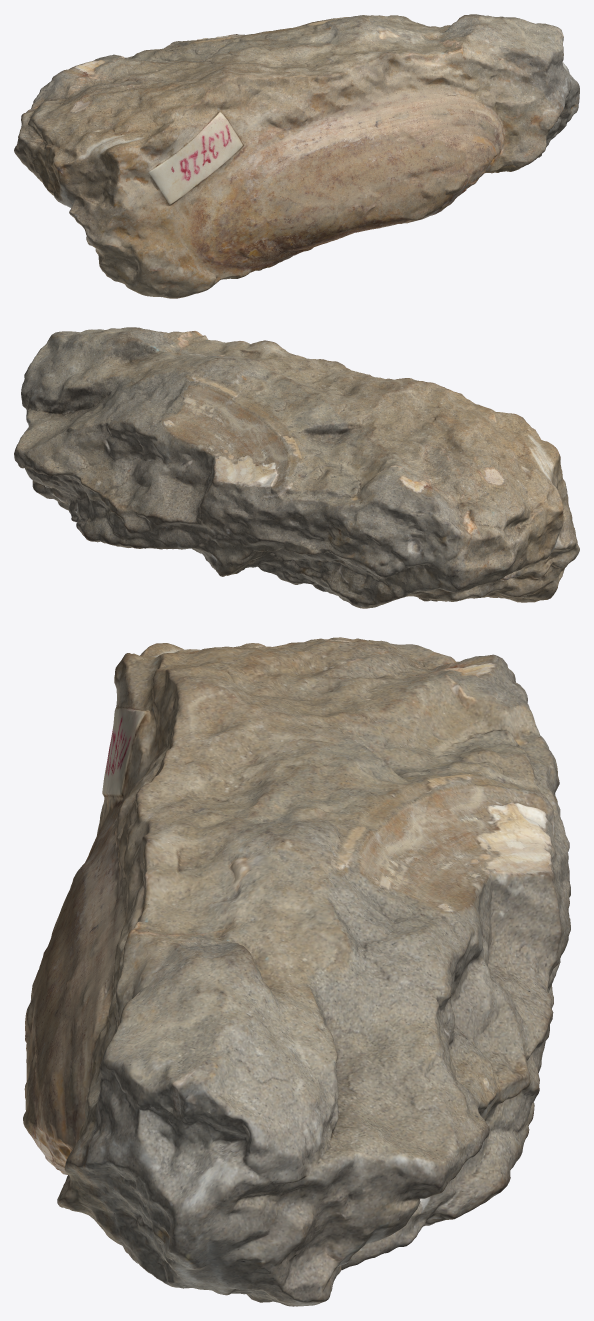
File: EWS0014136.glb
3 renders of one model, top to bottom at view 1: azimuth 30°, elevation 25°; view 2: azimuth 150°, elevation 25°; view 3: azimuth 270°, elevation 25°, orthographic. The views are drawn at different scales.
Visible parts, largest first — view 1: input; view 2: input; view 3: input.
Part boxes in pixels (left/top/right/bottom): input: left=14, top=14, right=579, bottom=298; input: left=14, top=327, right=579, bottom=608; input: left=23, top=637, right=570, bottom=1306.
Bounding box in the file's own units: 0.0787 × 0.0288 × 0.0371.
Materials: 1 (1 with a texture image).
